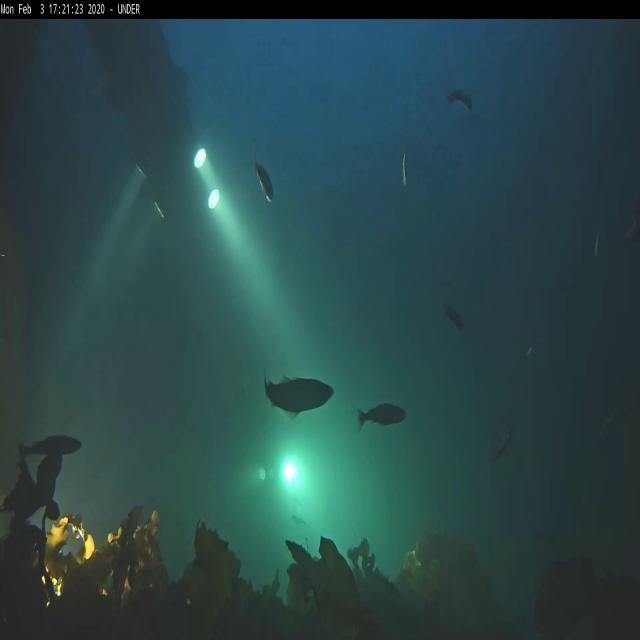fish: (262, 370, 334, 421), (15, 436, 84, 455), (358, 406, 411, 427), (252, 157, 274, 207), (493, 426, 514, 466), (444, 304, 464, 335), (446, 92, 476, 112), (524, 340, 542, 360), (402, 148, 409, 186), (594, 225, 602, 258)
